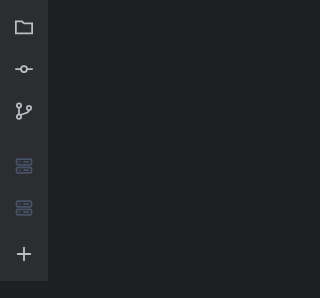
it: Stripe › вход без вкладки приглушён; открытый — полоска; активный — on
Later steps or results of the test are not shown.
What coordinates should you click on to do the following:
click the button named "A"
I would click on:
 (24, 166)
Its box is [5,147,43,185].
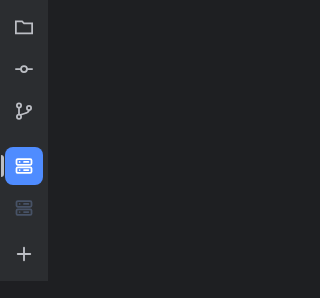
Expected: the button named "A" has class "open" "on", [5,147,43,185]
What coordinates should you click on to do the following:
click the button named "B"
I would click on:
 (24, 208)
Its box is [5,189,43,227].
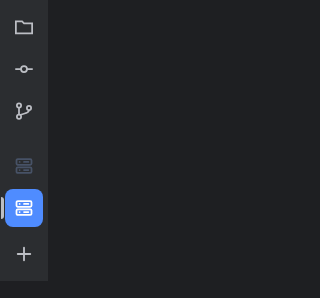
Expected: the button named "A" does not have class "on", [5,147,43,185]
Expected: the button named "B" has class "open" "on", [5,189,43,227]
Expected: the button named "A" does not have class "open", [5,147,43,185]
